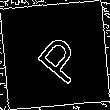P_NW: (24, 25, 86, 85)
